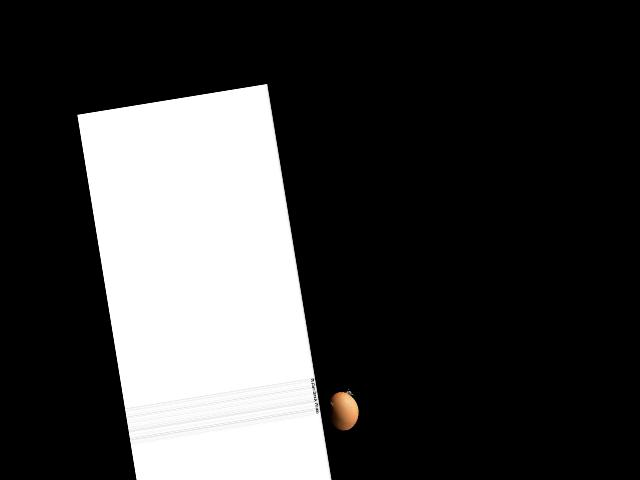egg: (324, 390, 360, 433)
